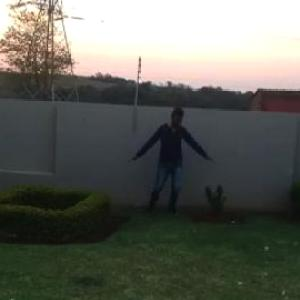land: (129, 102, 215, 224)
